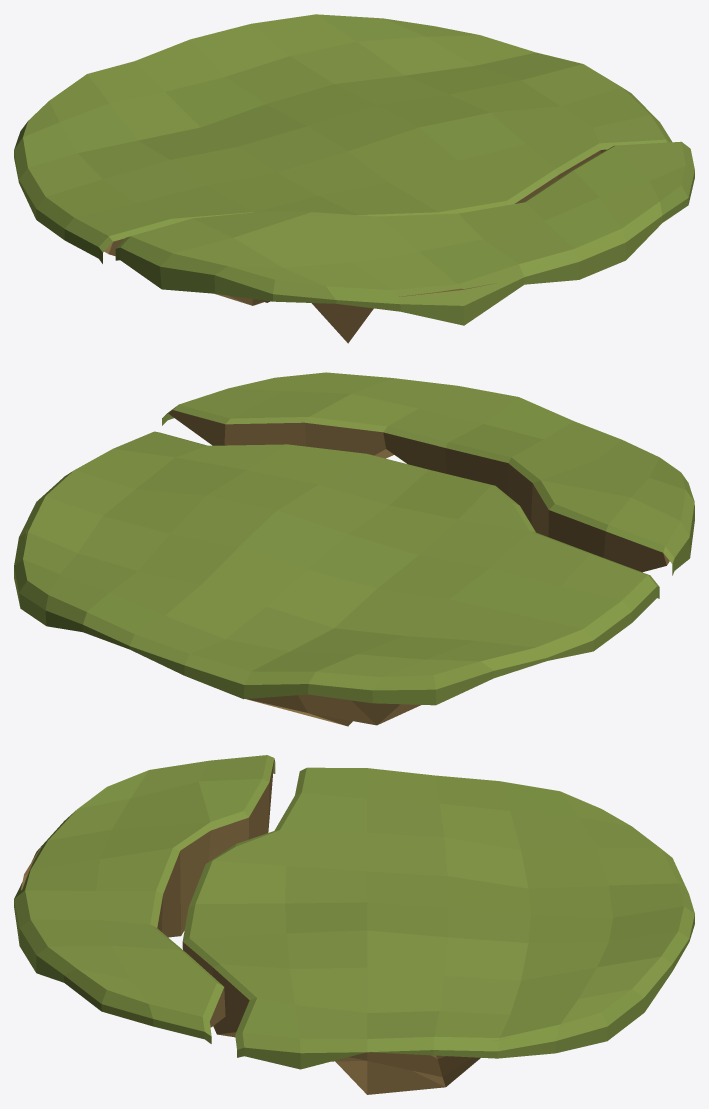
The model's file is platforme_petit1_v2.fbx.
3 renders of one model, top to bottom at view 1: azimuth 30°, elevation 25°; view 2: azimuth 150°, elevation 25°; view 3: azimuth 270°, elevation 25°, orthographic.
Parts seen in each view (by area): view 1: Plane.006; view 2: Plane.006; view 3: Plane.006.
Part boxes in pixels (bbox=[...]): Plane.006: bbox=[14, 14, 694, 343]; Plane.006: bbox=[14, 372, 694, 726]; Plane.006: bbox=[14, 755, 694, 1094].
Bounding box in the file's own units: 246 × 89.92 × 256.
